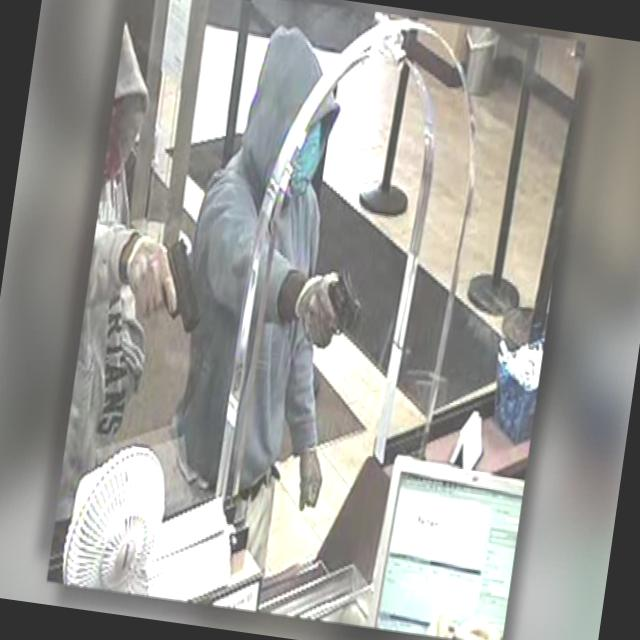handgun: (136, 228, 212, 332), (319, 265, 368, 340)
